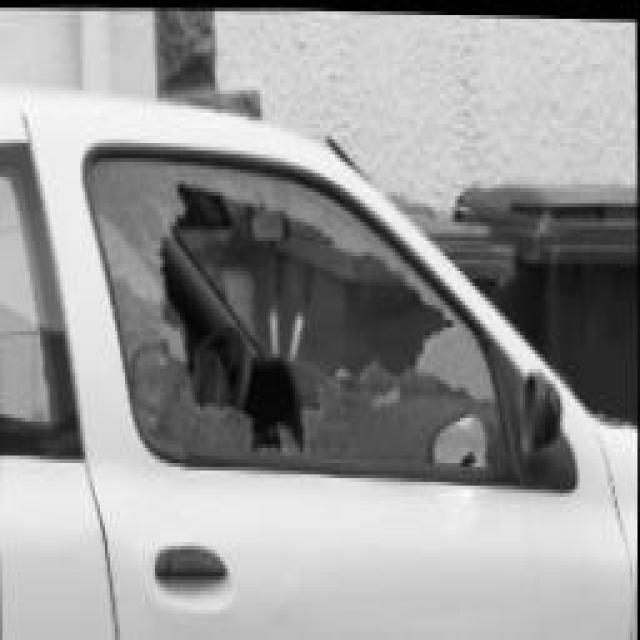Door: (60, 147, 462, 638)
